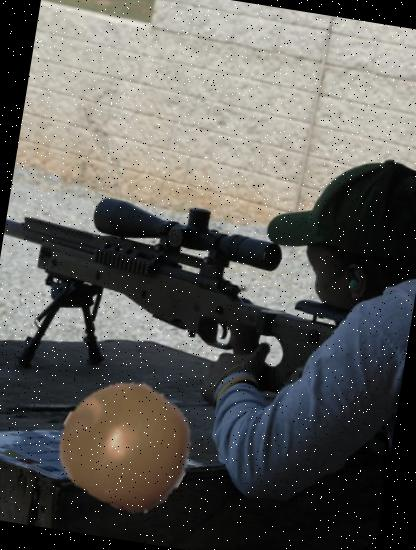Tomato: (52, 369, 203, 520)
